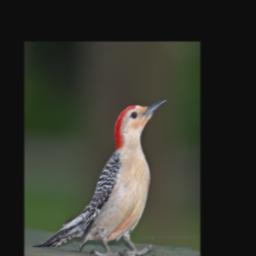Woodpecker: (32, 96, 170, 256)
